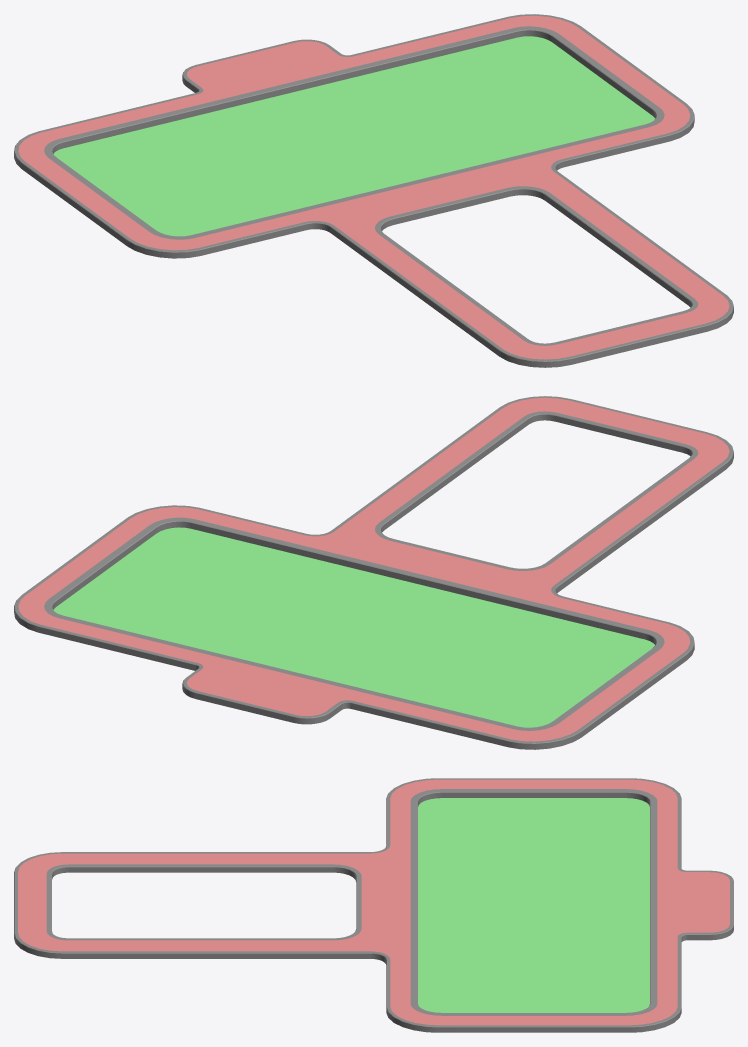
The model's file is SpaceLaserRoom_01.gltf.
3 views of the same model, one above another, from view 1: azimuth 30°, elevation 25°; view 2: azimuth 150°, elevation 25°; view 3: azimuth 270°, elevation 25° (orthographic). The views are drawn at different scales.
Parts seen in each view (by area): view 1: SpaceLaserRoom_01; view 2: SpaceLaserRoom_01; view 3: SpaceLaserRoom_01.
Boxes of the visible parts, bbox=[...] form: SpaceLaserRoom_01: bbox=[14, 14, 733, 367]; SpaceLaserRoom_01: bbox=[14, 396, 733, 749]; SpaceLaserRoom_01: bbox=[14, 778, 733, 1032].
Bounding box in the file's own units: 59.11 × 0.65 × 72.23.
